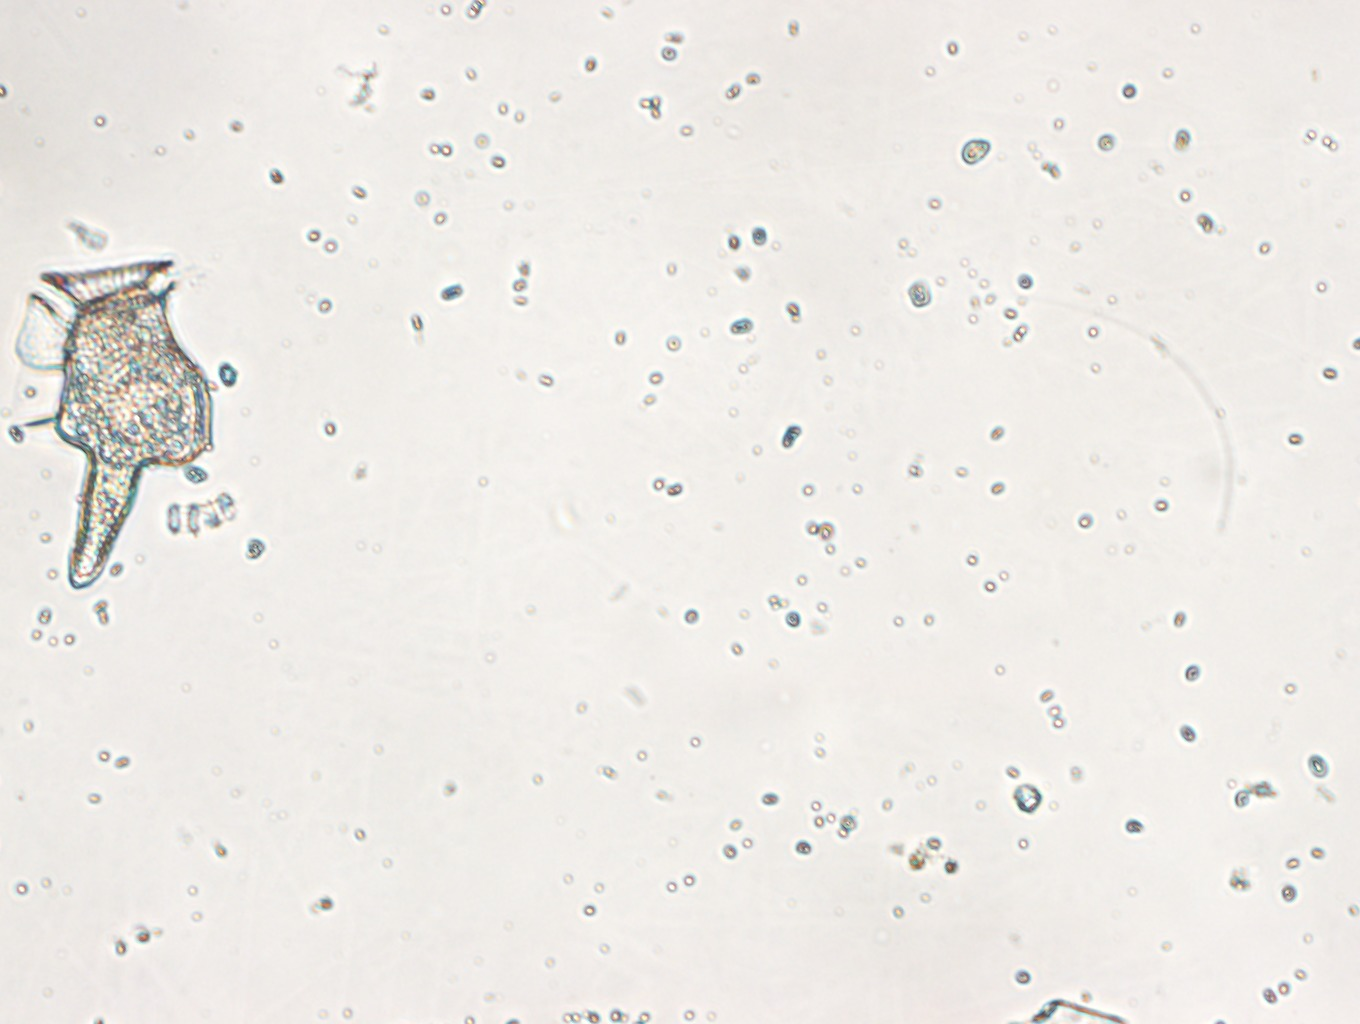dinophysis caudata: (6, 246, 230, 593)
